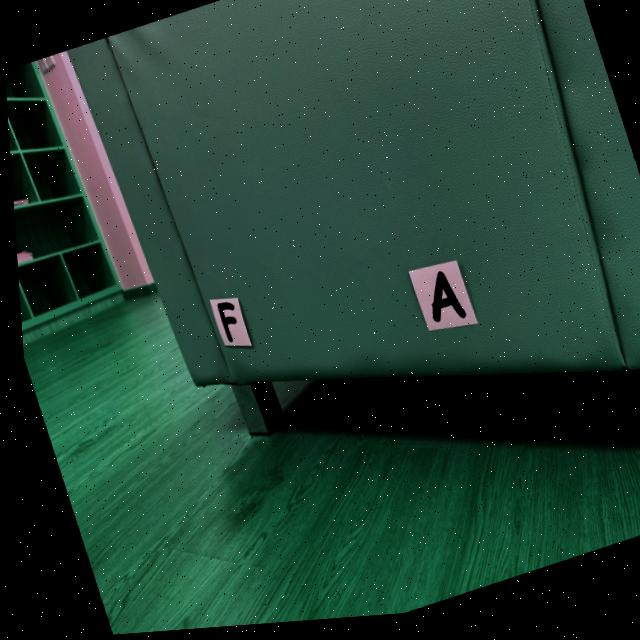A: (427, 277, 461, 328)
F: (213, 304, 231, 345)
